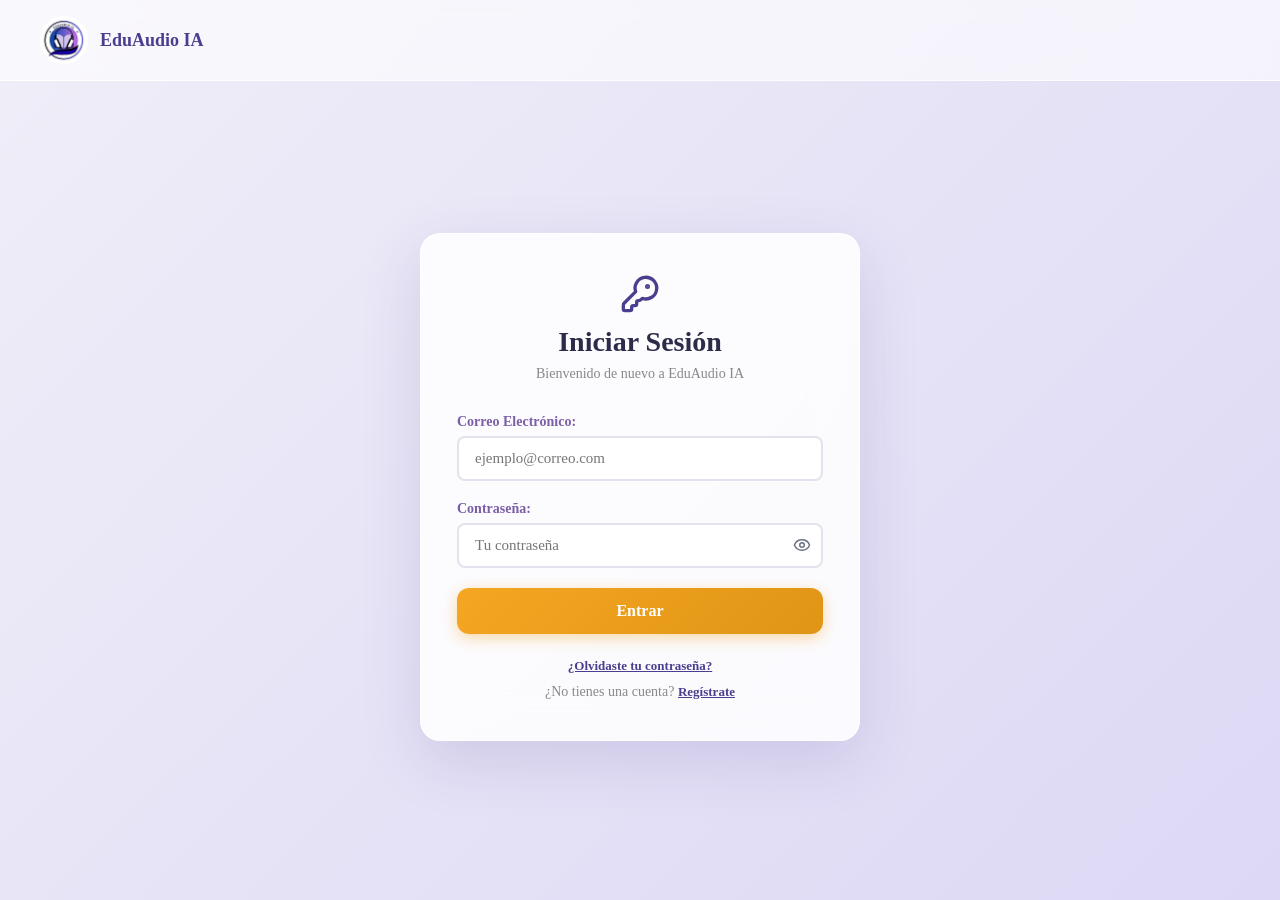
Formulario de inicio de sesión - Login › muestra un error si los campos están vacíos
Click the button "Entrar": (640, 610) [457,588,823,634]
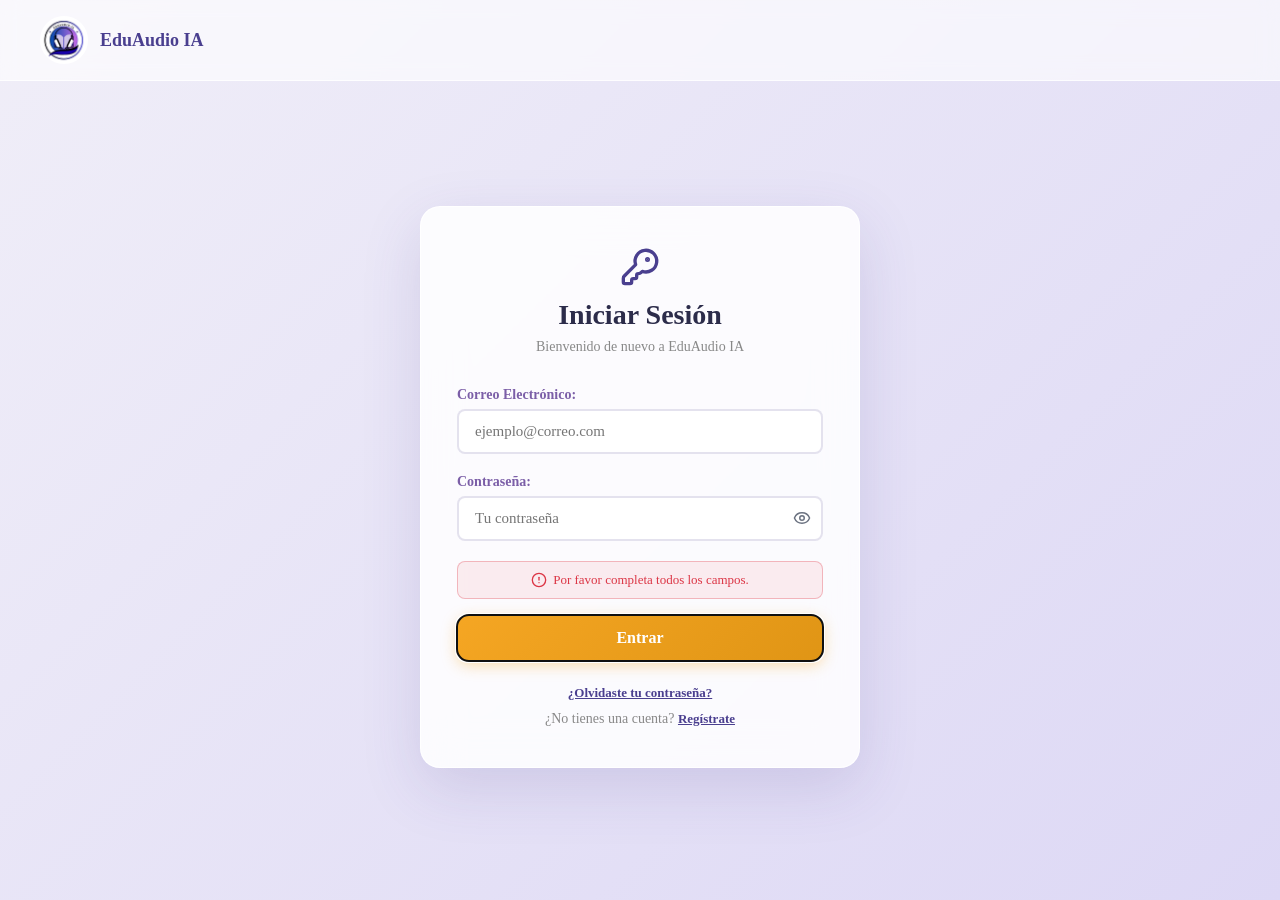
Expected: the text "Por favor completa todos los campos." is shown, [553,572,749,588]
